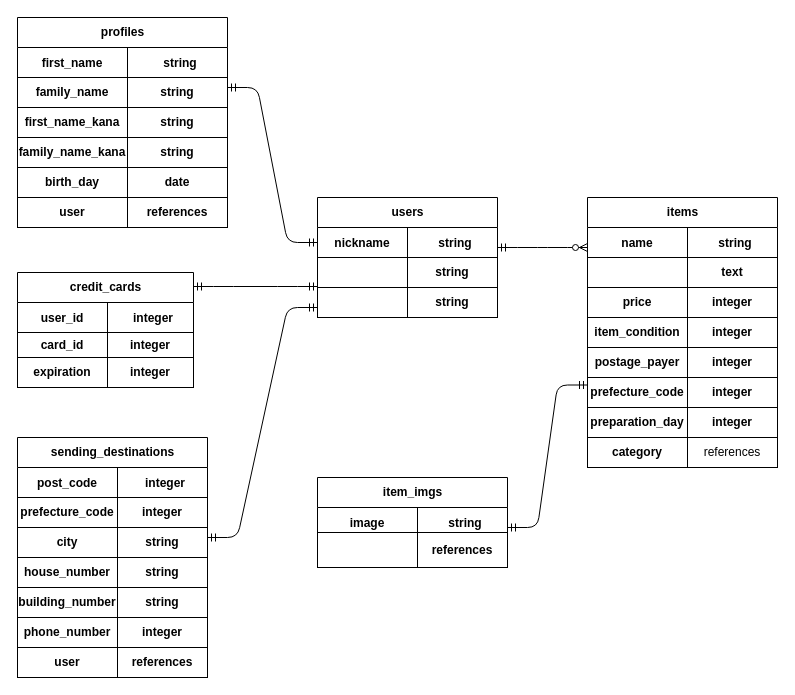
This 795x695 diagram has some shape labels left out. Here are the shapes that lost their labels. From the top down, the centre of each, then its label:
pixel 362 272: email
pixel 637 272: introduction
pixel 362 302: password
pixel 367 550: item_id
